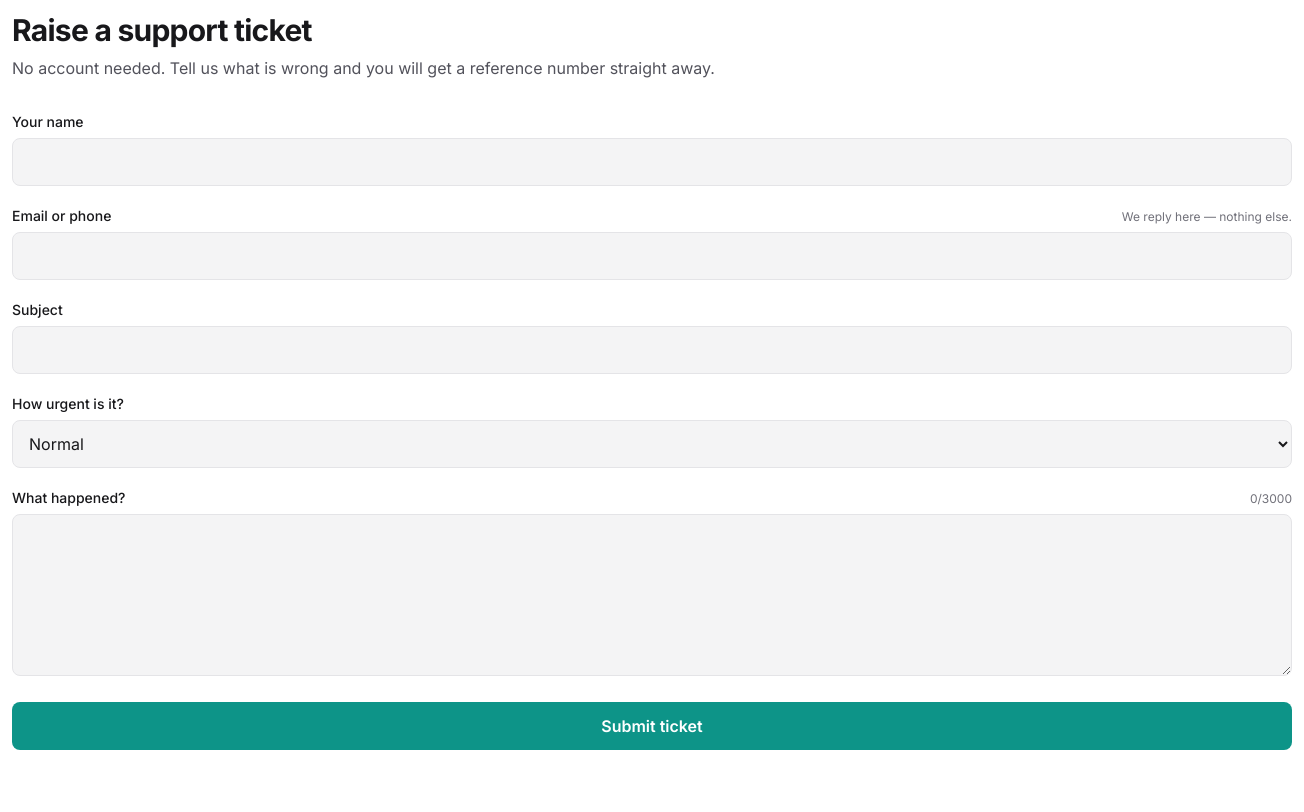
Test case: SupportForm › keeps the form and shows the error when submission fails
In the field labelled "Your name": (652, 162) [12,138,1292,186], type "Asha"
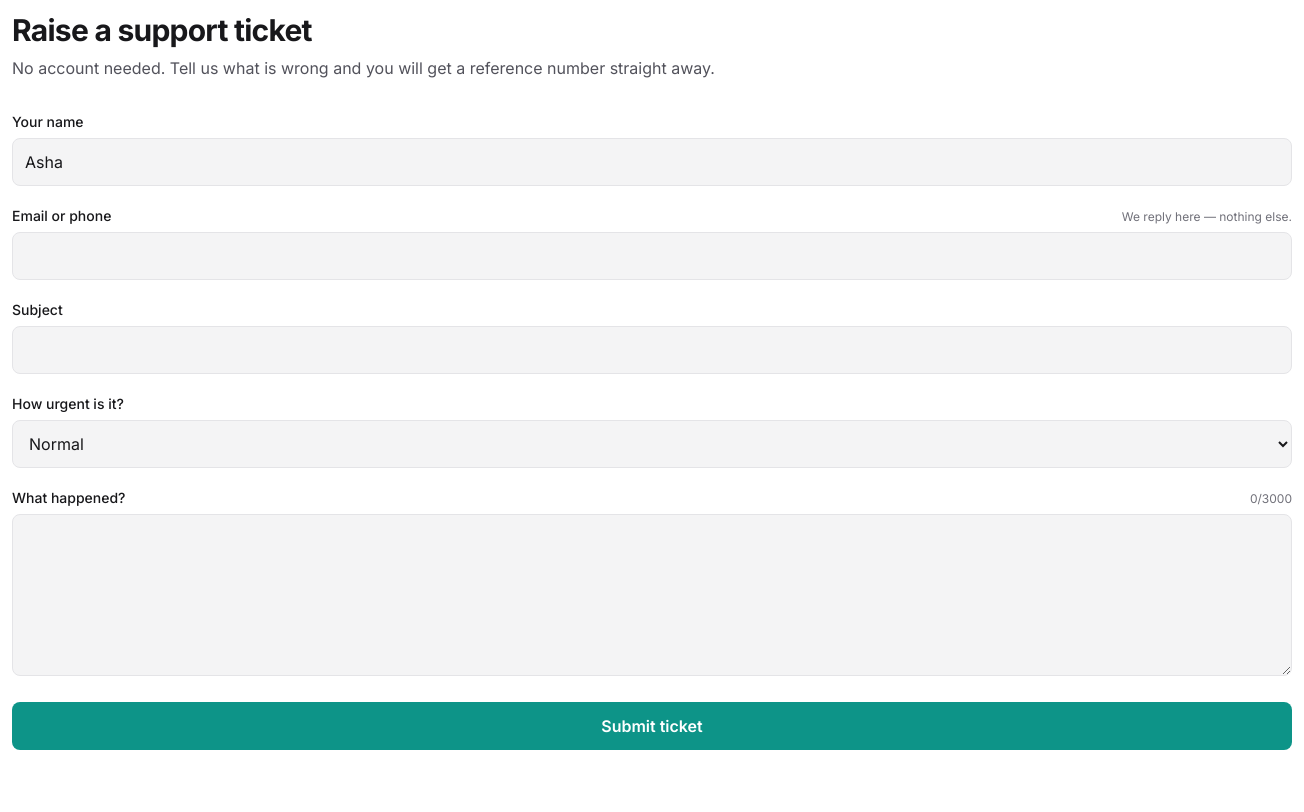
In the field labelled "Email or phone": (652, 256) [12,232,1292,280], type "asha@example.com"
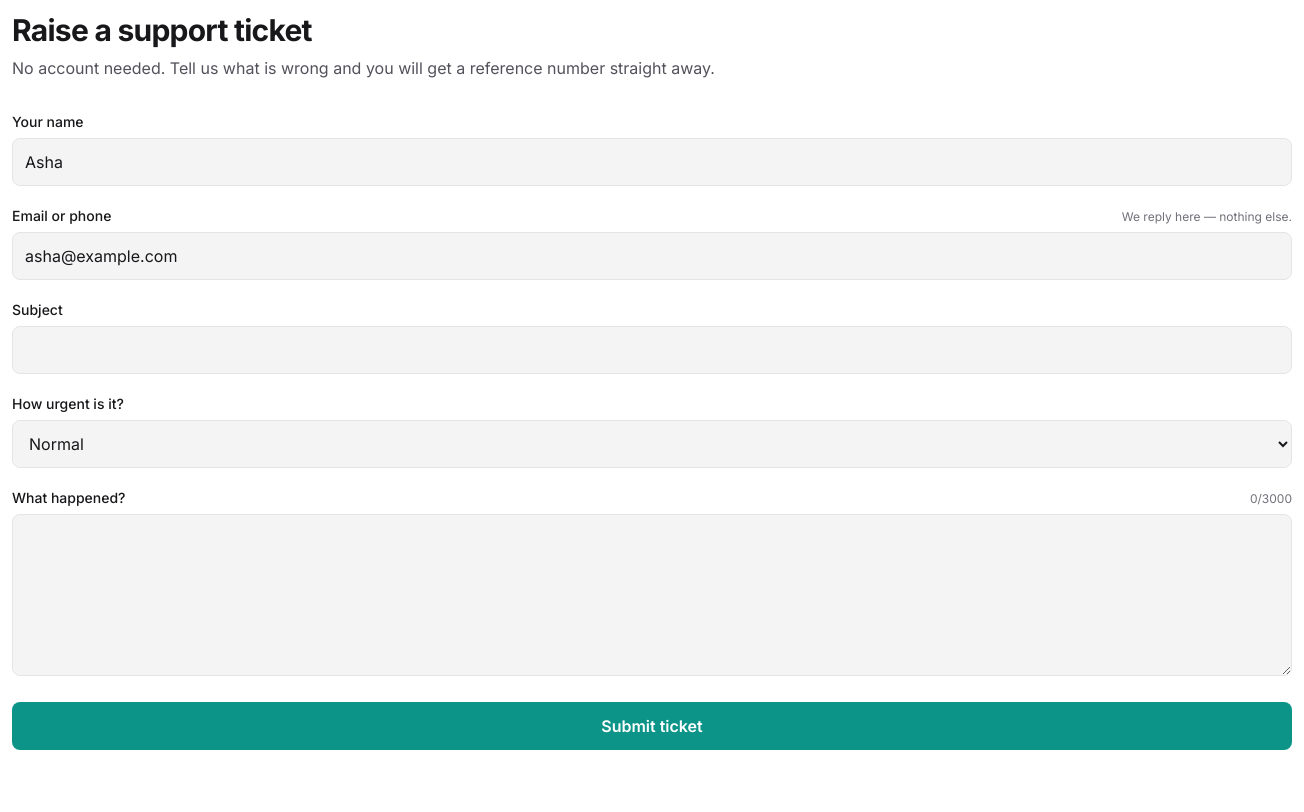
In the field labelled "Subject": (652, 350) [12,326,1292,374], type "Refund"
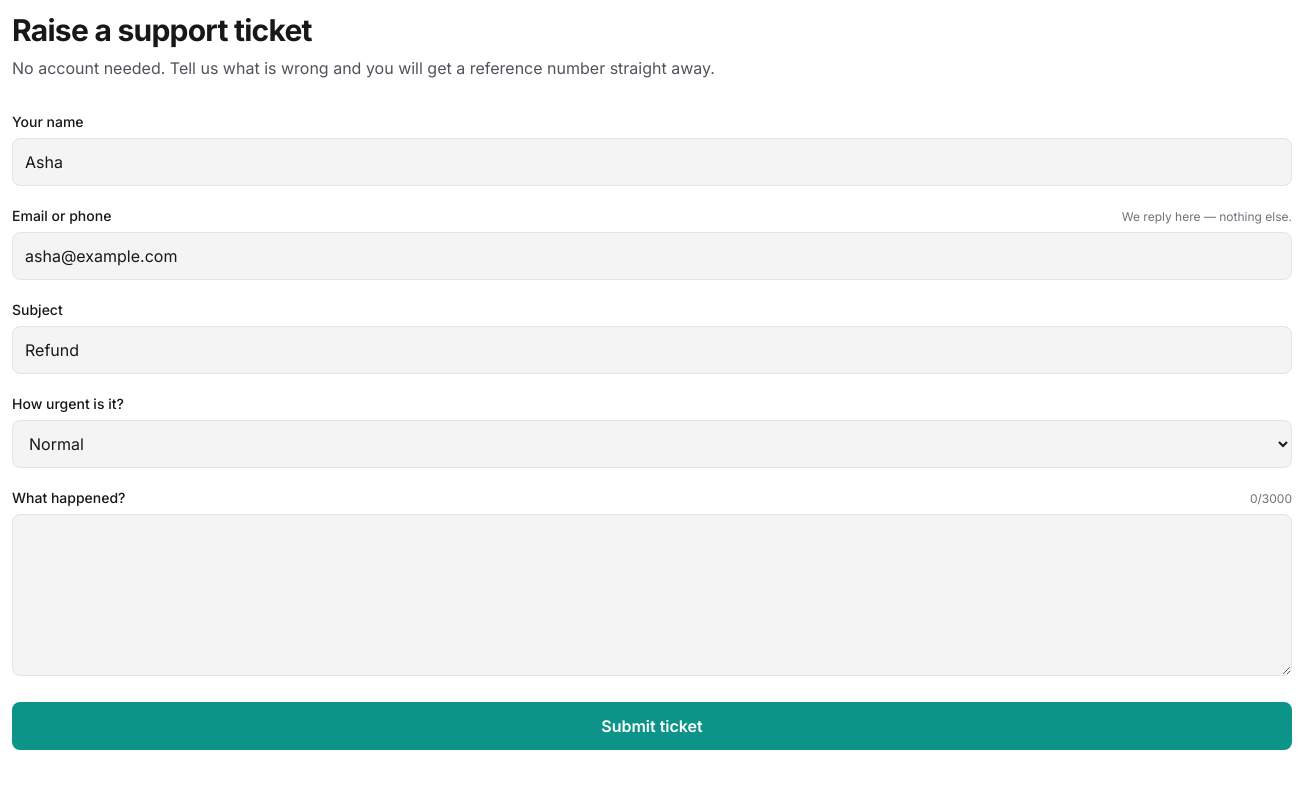
In the text box labelled "What happened?": (652, 595) [12,514,1292,676], type "My refund has not arrived yet."
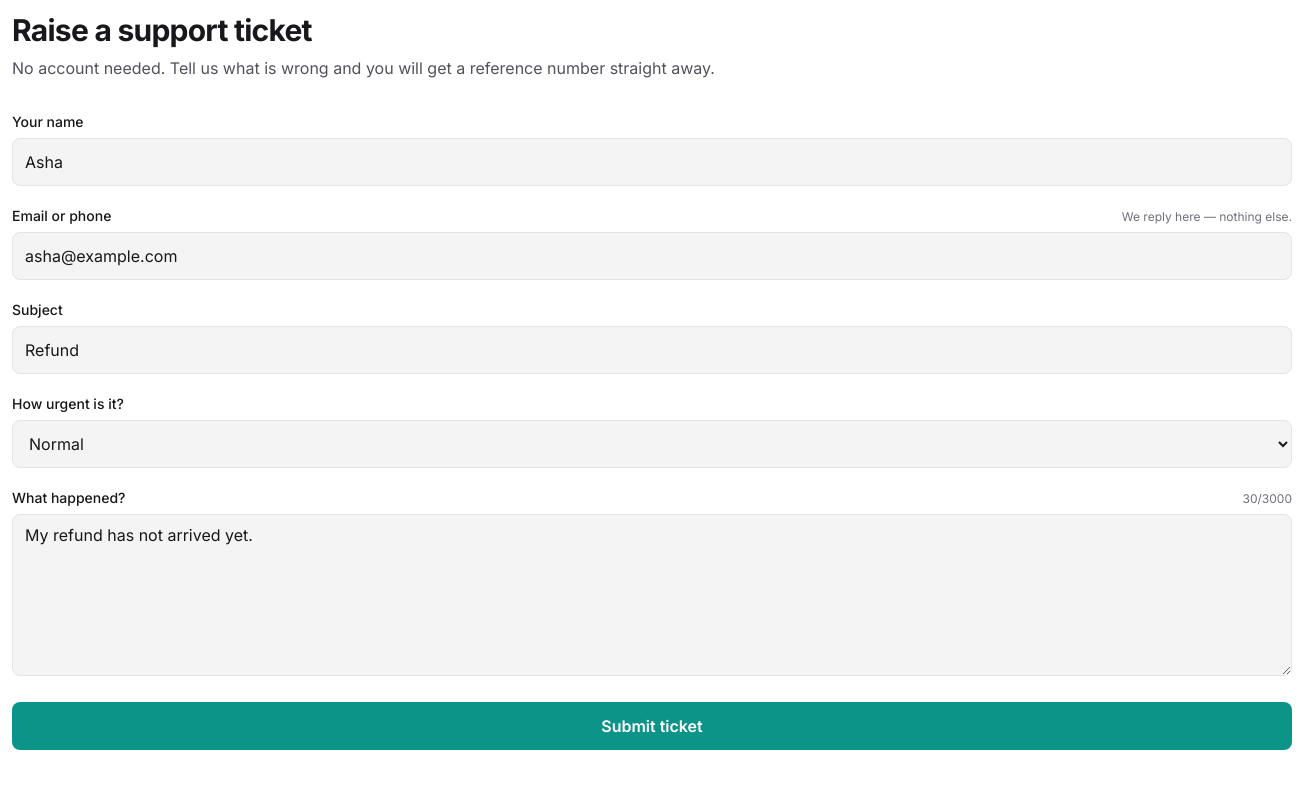
Click the button "Submit ticket": (652, 726) [12,702,1292,750]
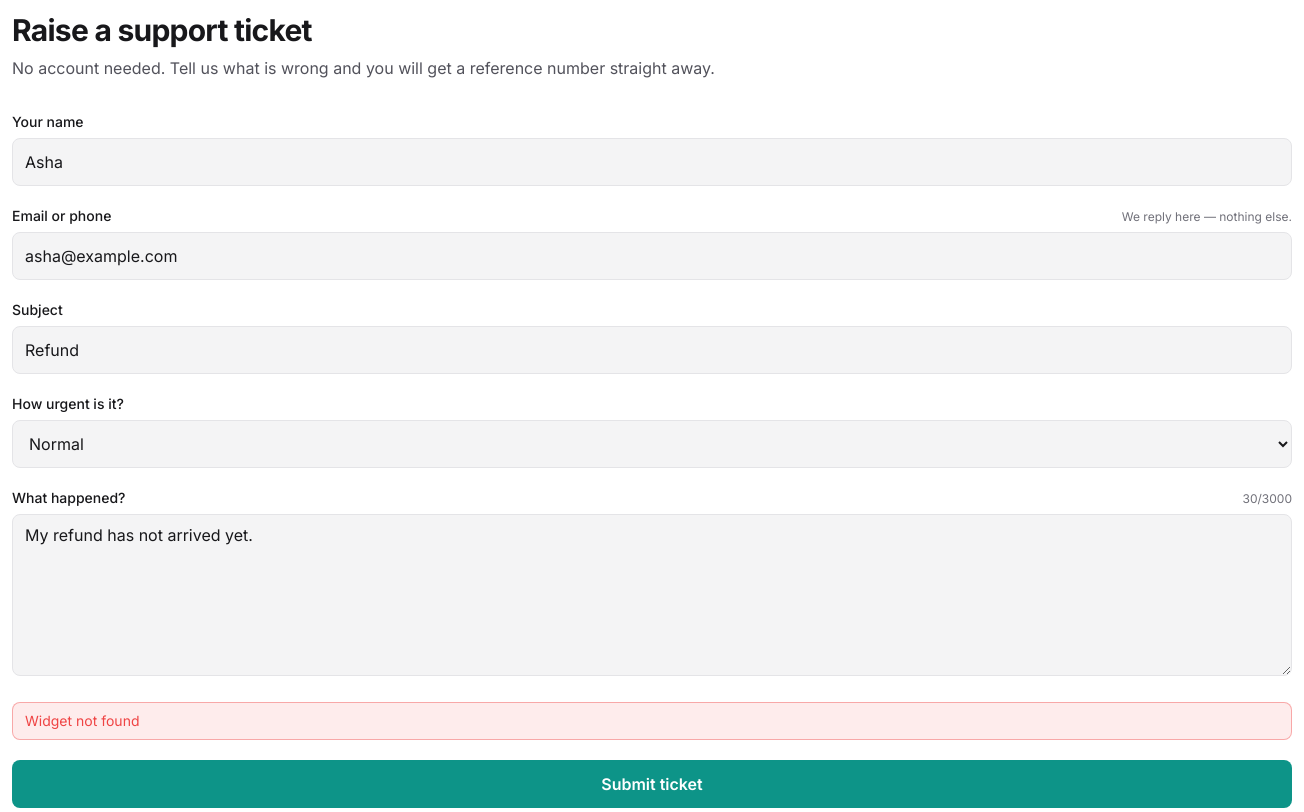
Check: the message reads "Widget not found", box [25,712,140,729]
